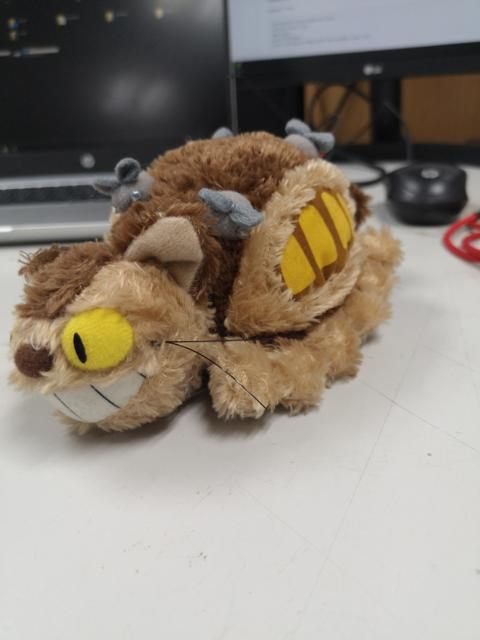nekobus: (5, 112, 410, 444)
